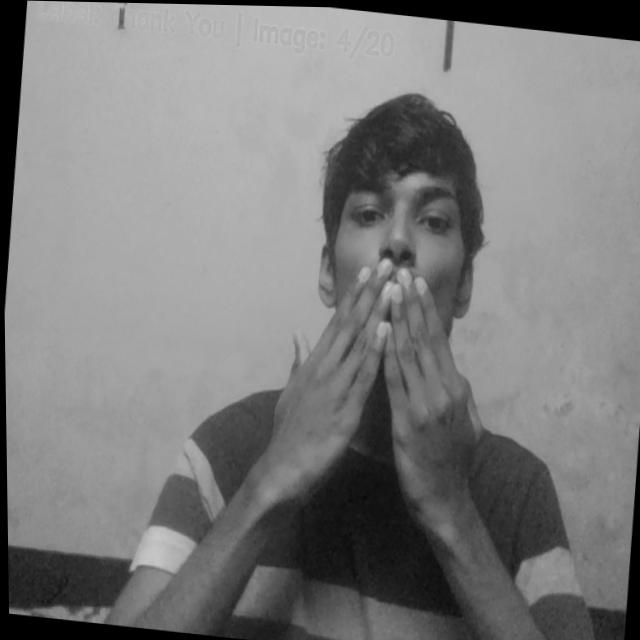Thank You: (253, 244, 496, 505)
